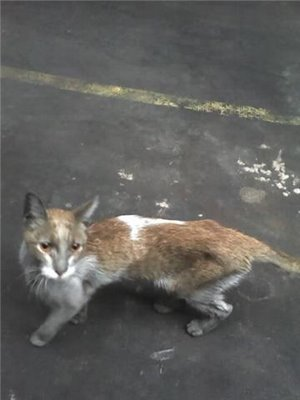cat: (7, 177, 290, 337)
